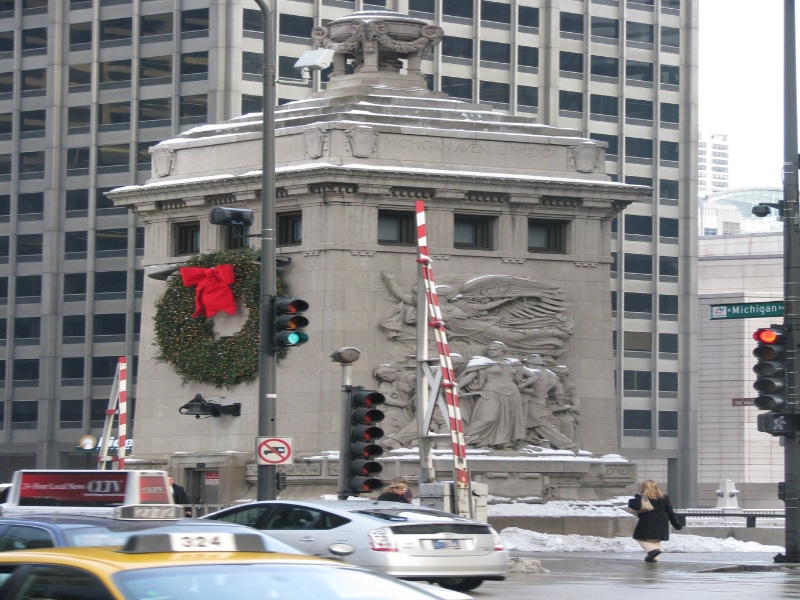green_light: (269, 331, 317, 354)
no_honking: (257, 436, 294, 470)
yellow_light: (756, 329, 781, 355)
